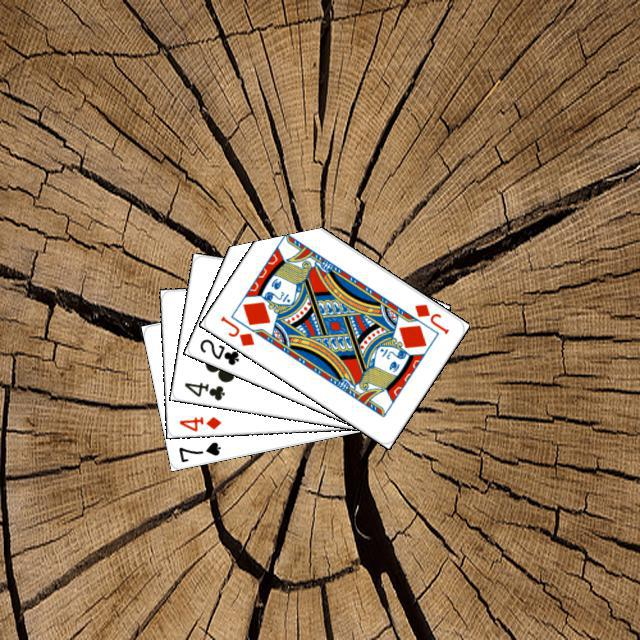2c: (195, 334, 241, 367)
4c: (179, 377, 227, 402)
4d: (174, 412, 223, 432)
7s: (174, 437, 222, 464)
Jd: (409, 299, 451, 336), (215, 311, 256, 348)
